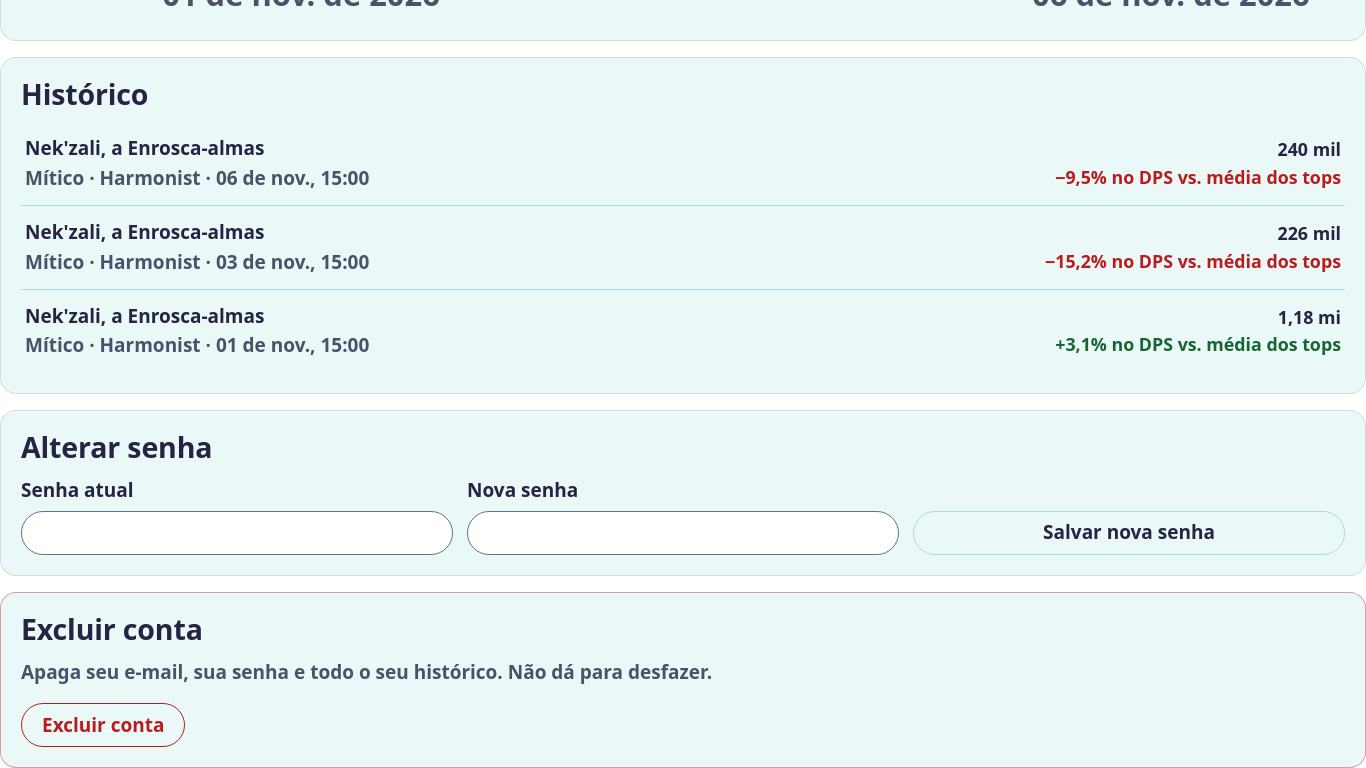
Profile › excluir conta › falha ao excluir: mostra o erro e continua logado
(page scrolled)
What coordinates should you click on to do the following:
click the button "Excluir conta"
I would click on:
 (103, 725)
Its box is 21,703 -> 185,747.
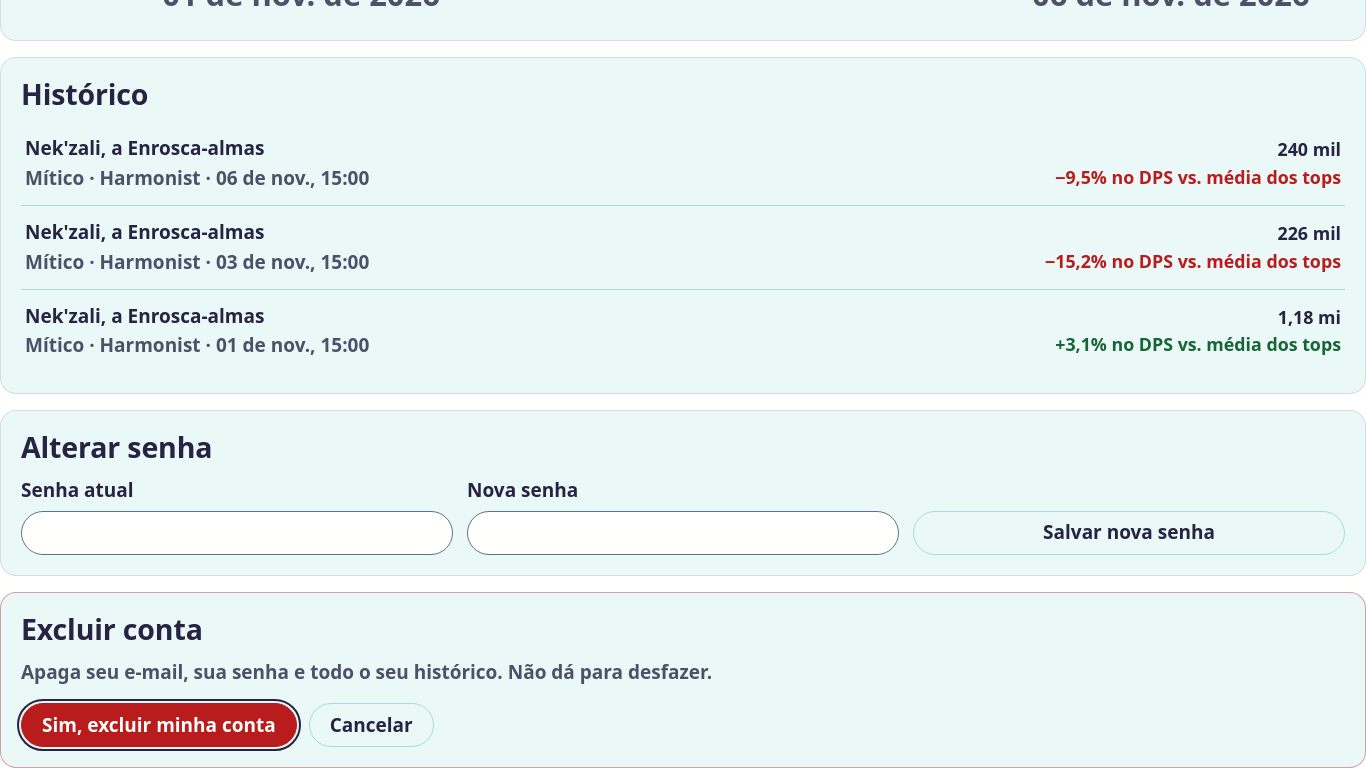
What coordinates should you click on to do the following:
click the button "Sim, excluir minha conta"
I would click on:
 (159, 725)
Its box is 21,703 -> 297,747.
(page scrolled)
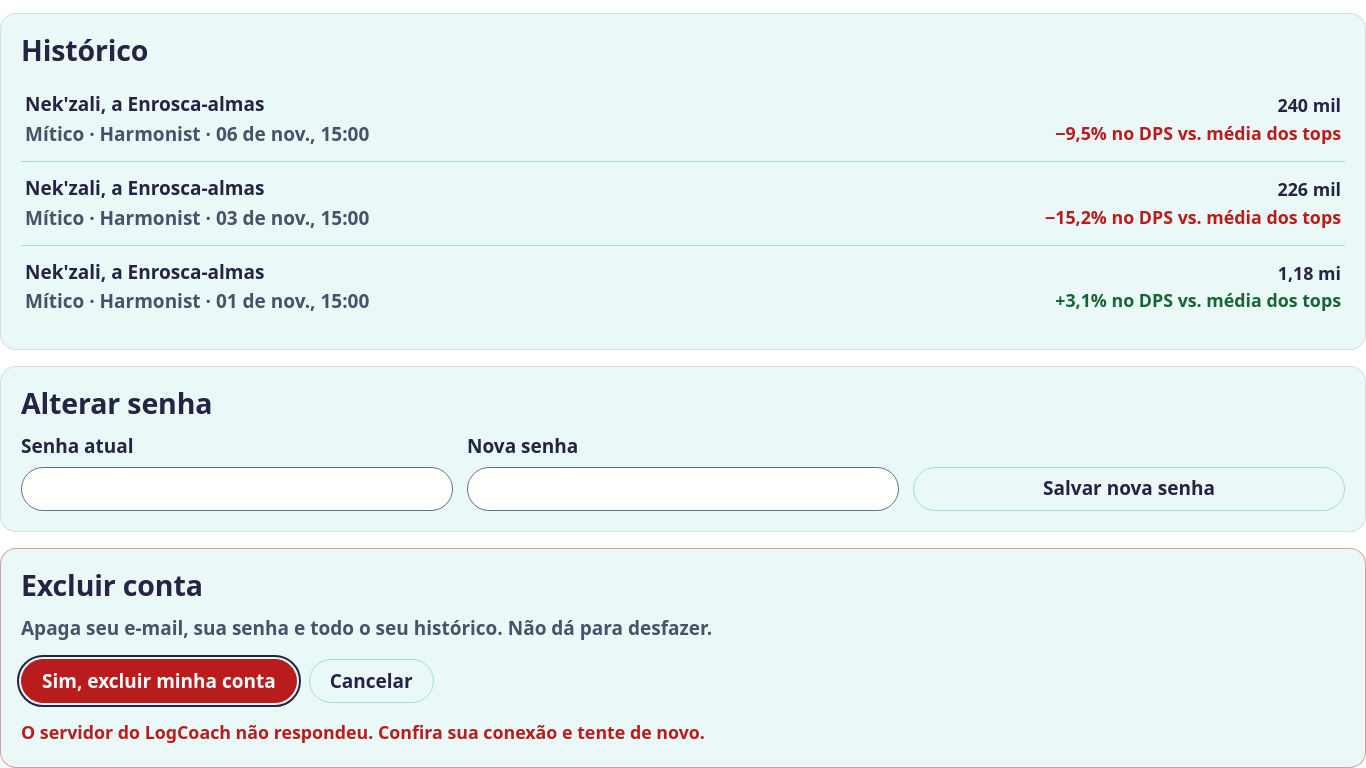
Result: the text "O servidor do LogCoach não respondeu" is shown at 21,720 -> 705,744
